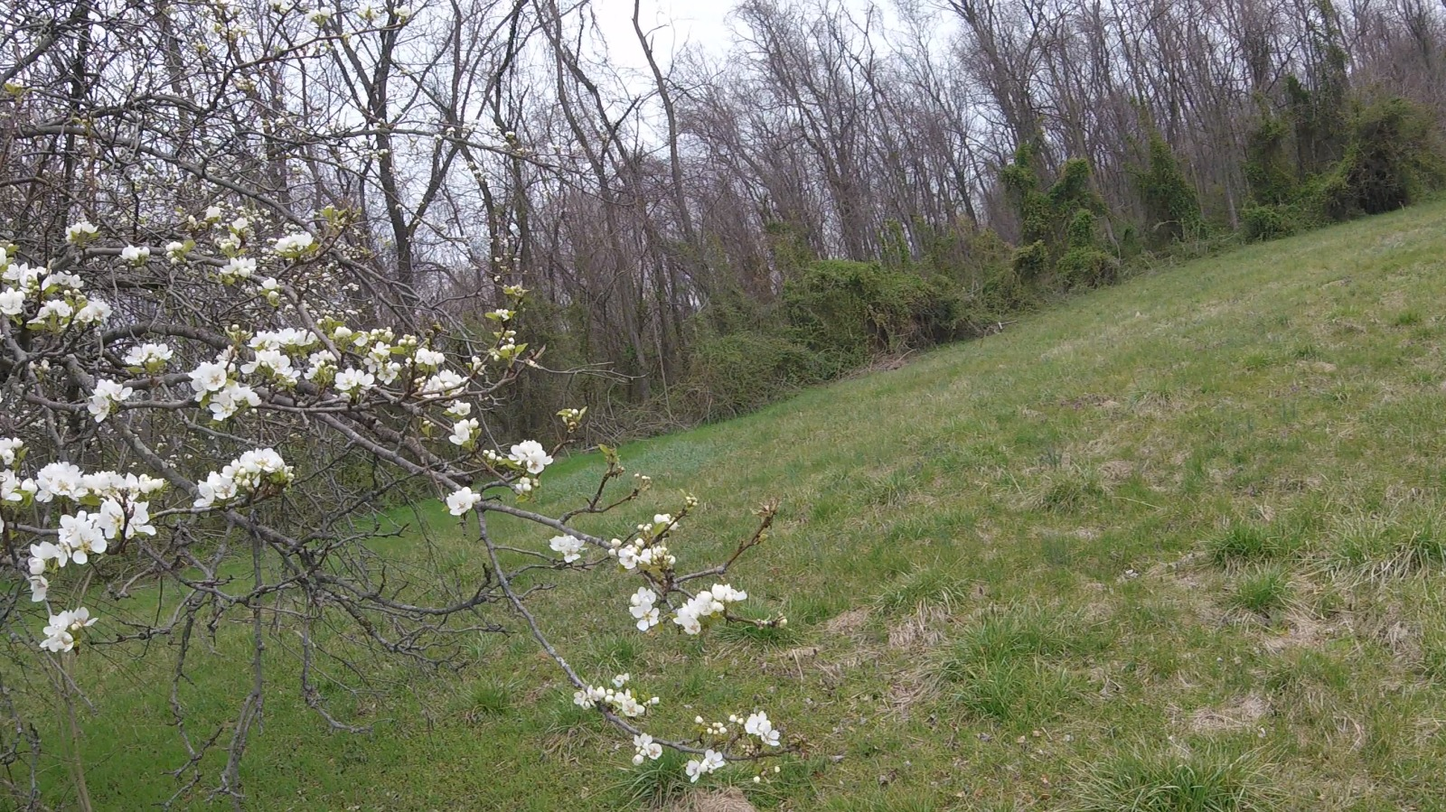flower: (22, 461, 171, 574), (194, 448, 294, 508), (185, 346, 262, 422), (240, 328, 322, 384), (334, 341, 405, 399), (672, 583, 747, 635), (0, 247, 48, 315), (40, 607, 99, 653), (77, 379, 133, 423), (574, 686, 645, 717), (507, 441, 554, 474), (629, 587, 660, 633), (745, 711, 783, 748), (74, 296, 114, 329), (622, 733, 662, 766), (686, 750, 726, 783), (121, 343, 174, 366), (423, 369, 471, 393), (549, 534, 588, 563), (27, 300, 74, 324), (267, 231, 315, 253), (619, 538, 653, 569), (447, 487, 481, 516), (304, 350, 337, 379), (22, 571, 51, 602), (42, 270, 84, 291), (112, 244, 150, 267), (328, 327, 370, 347), (219, 257, 260, 277), (449, 418, 479, 445), (0, 469, 23, 501), (66, 221, 99, 242), (0, 437, 24, 465), (303, 6, 332, 26), (415, 349, 446, 366), (445, 400, 472, 416), (394, 5, 422, 19), (165, 241, 184, 261), (203, 206, 229, 220), (221, 233, 241, 249), (261, 277, 285, 290), (494, 309, 517, 322), (232, 218, 252, 232), (612, 674, 630, 688), (654, 514, 676, 525), (713, 723, 728, 734), (520, 477, 532, 490), (473, 356, 483, 370), (729, 715, 744, 724), (253, 474, 260, 488), (648, 697, 659, 705), (229, 363, 236, 373), (696, 716, 704, 723), (77, 295, 86, 300)
